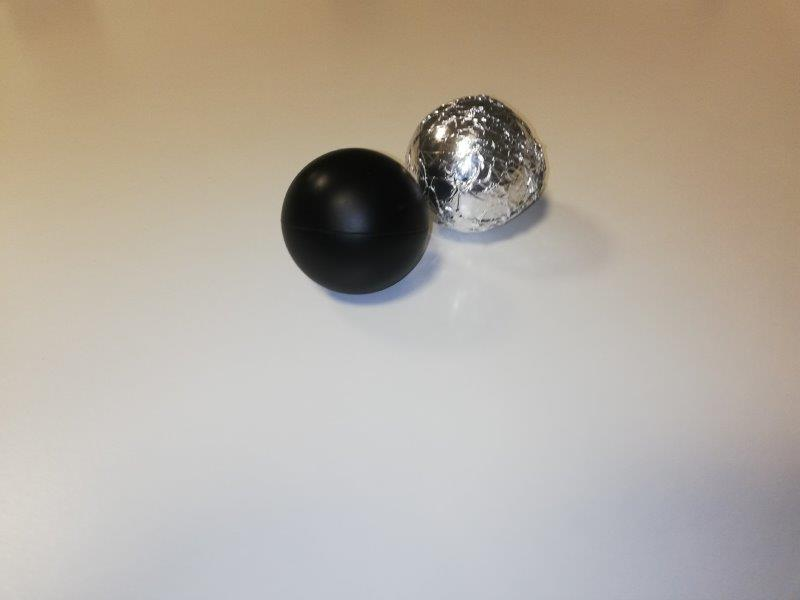bianca: (409, 98, 545, 227)
nera: (275, 150, 430, 293)
